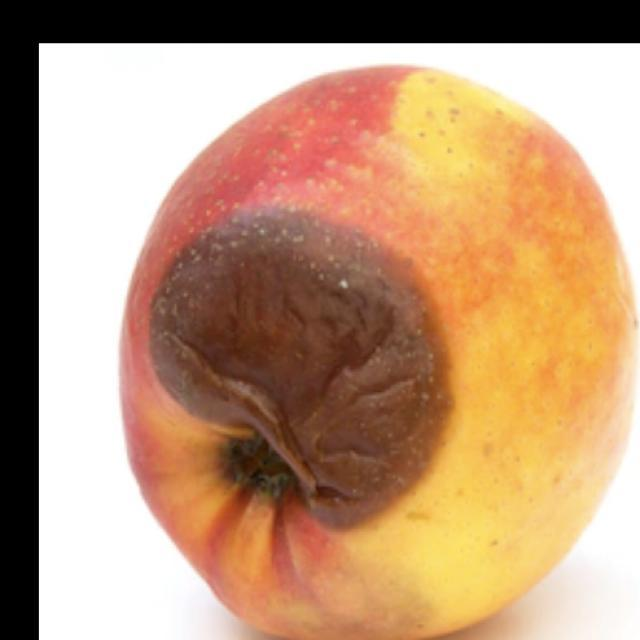Rotten: (136, 77, 626, 635)
